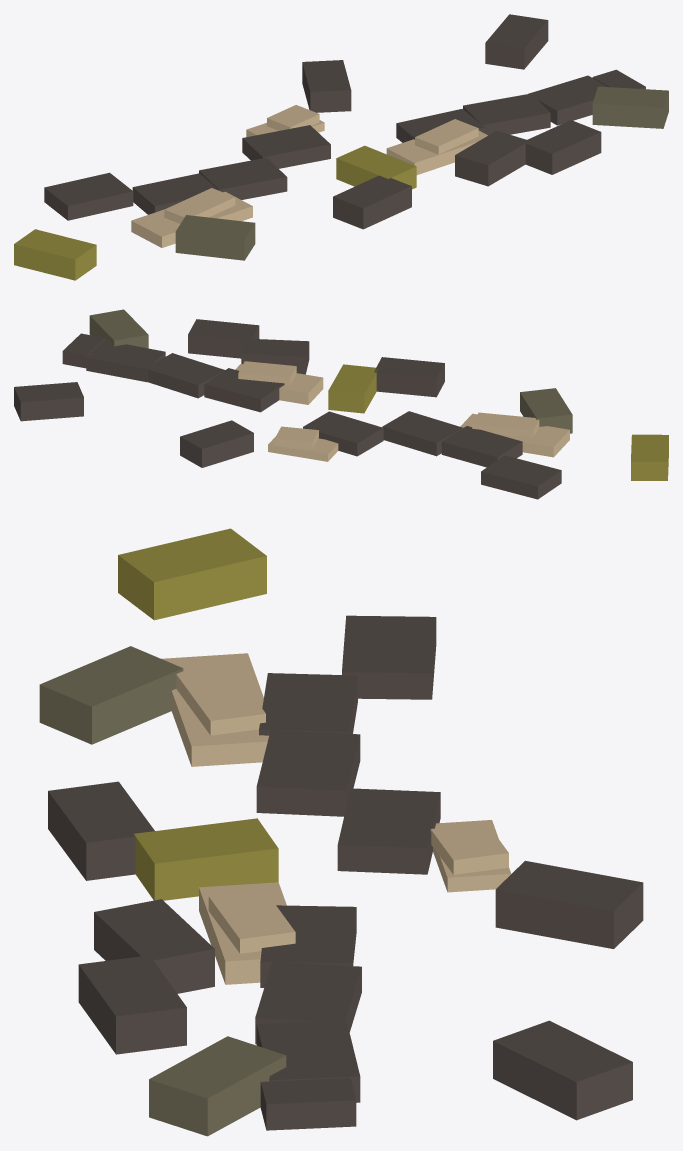
File: SM_MuroSacos_v2_Irregular_e3_Brecha_LOD1.fbx
3 renders of one model, top to bottom at view 1: azimuth 30°, elevation 25°; view 2: azimuth 150°, elevation 25°; view 3: azimuth 270°, elevation 25°, orthographic. The views are drawn at different scales.
Visible parts, largest first — view 1: SM_bloques.muro_sacos_estados_v11_LOD1; view 2: SM_bloques.muro_sacos_estados_v11_LOD1; view 3: SM_bloques.muro_sacos_estados_v11_LOD1.
Boxes of the visible parts, box(x1,y1,x2,y2) form: SM_bloques.muro_sacos_estados_v11_LOD1: box(14, 14, 668, 280); SM_bloques.muro_sacos_estados_v11_LOD1: box(14, 309, 668, 499); SM_bloques.muro_sacos_estados_v11_LOD1: box(39, 528, 643, 1136).
Bounding box in the file's own units: 8.36 × 0.26 × 3.74.
